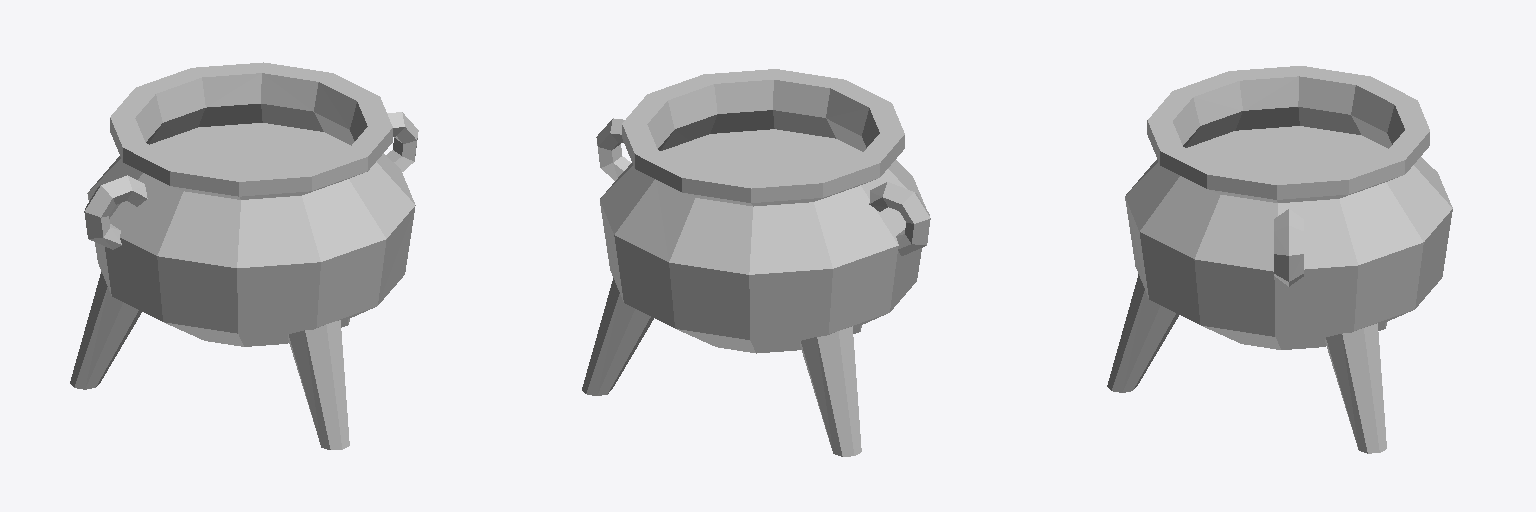
Rendered from pot.obj.
3 views of the same model, side by side, from view 1: azimuth 30°, elevation 25°; view 2: azimuth 150°, elevation 25°; view 3: azimuth 270°, elevation 25° (orthographic).
Visible parts, largest first — view 1: Cualdron_w_Cualdron_w_0; view 2: Cualdron_w_Cualdron_w_0; view 3: Cualdron_w_Cualdron_w_0.
Part boxes in pixels (x1,y1,x2,y2): Cualdron_w_Cualdron_w_0: (70, 62, 418, 449); Cualdron_w_Cualdron_w_0: (582, 69, 930, 456); Cualdron_w_Cualdron_w_0: (1107, 66, 1452, 453).
Size of the model in its own units: 0.3225 by 0.2406 by 0.289.